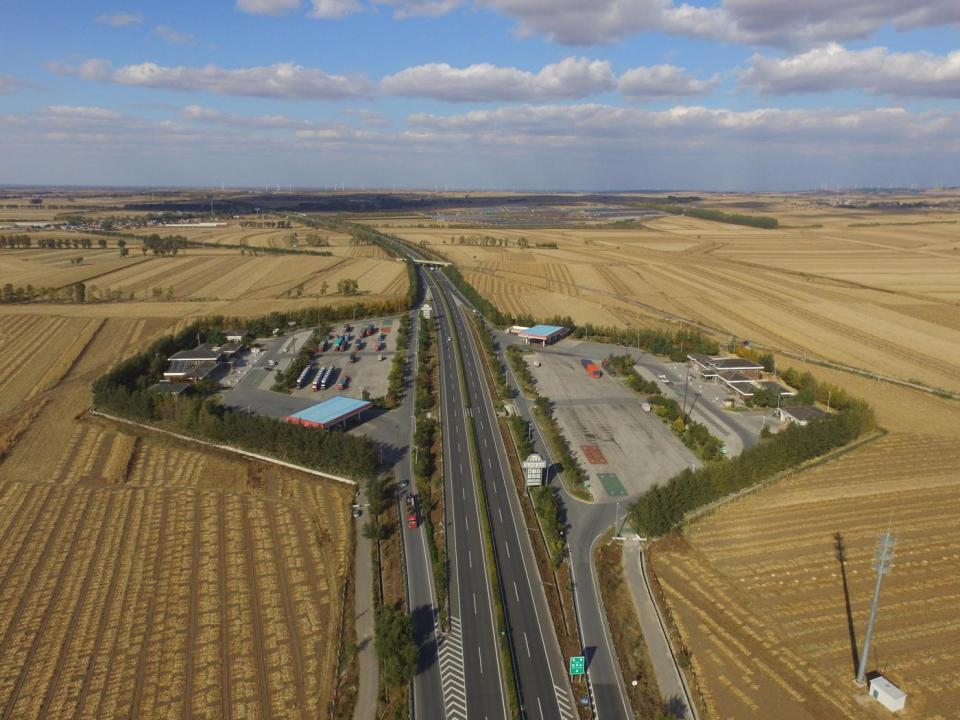car: (354, 510, 360, 518), (344, 336, 351, 342), (401, 479, 407, 486), (374, 345, 382, 350), (661, 380, 671, 384), (665, 381, 672, 386), (658, 374, 666, 378), (346, 332, 351, 337), (326, 336, 332, 340), (447, 336, 451, 342), (334, 336, 338, 341), (284, 348, 288, 352), (444, 346, 449, 349), (453, 287, 455, 291)
truck: (404, 492, 417, 528), (580, 358, 601, 378), (296, 364, 312, 390), (319, 366, 336, 390), (312, 365, 326, 391), (601, 360, 616, 376), (338, 374, 348, 390), (318, 339, 327, 352), (353, 338, 361, 350), (366, 324, 374, 336), (334, 338, 341, 351), (358, 327, 366, 338), (339, 340, 347, 351), (350, 353, 356, 363), (343, 324, 348, 332)
van: (641, 402, 650, 412), (268, 360, 274, 366), (534, 361, 540, 367), (377, 354, 382, 361)
